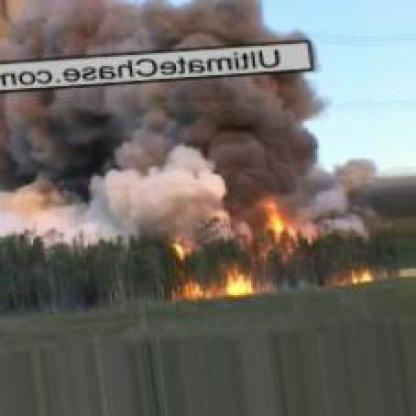fire: (145, 193, 401, 302)
smoke: (20, 4, 342, 200)
